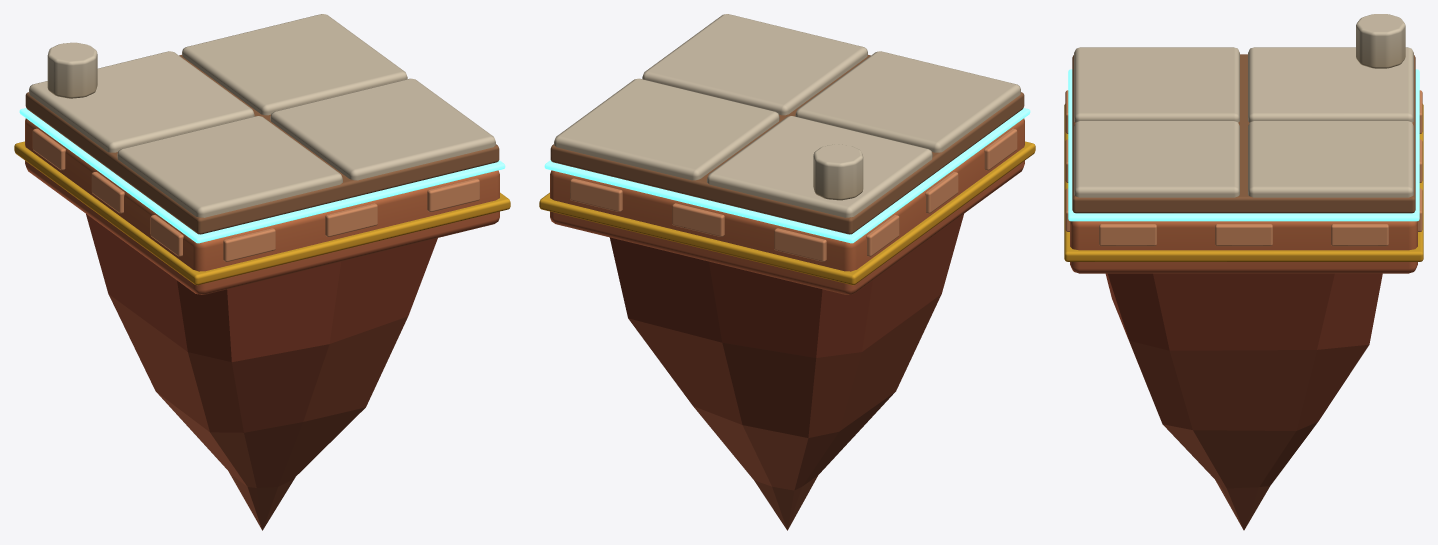
File: PLAT_Ruin_S.glb
3 views of the same model, side by side, from view 1: azimuth 30°, elevation 25°; view 2: azimuth 150°, elevation 25°; view 3: azimuth 270°, elevation 25° (orthographic).
Parts seen in each view (by area): view 1: Stone, EdgeGlow; view 2: Stone, EdgeGlow; view 3: Stone, EdgeGlow.
Part boxes in pixels (x1,y1,x2,y2): Stone: (14,14,510,530); EdgeGlow: (19,108,505,243); Stone: (539,14,1035,530); EdgeGlow: (544,108,1030,243); Stone: (1064,14,1423,530); EdgeGlow: (1068,69,1419,221).
Size of the model in its own units: 3.1 by 4.28 by 3.1.
